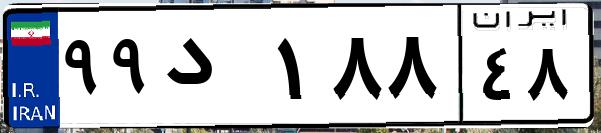1: (270, 28, 330, 110)
4: (475, 38, 525, 113)
8: (385, 28, 445, 110), (330, 28, 385, 110), (525, 38, 570, 115)
9: (57, 26, 110, 100), (110, 28, 158, 98)
د: (158, 20, 270, 120)
